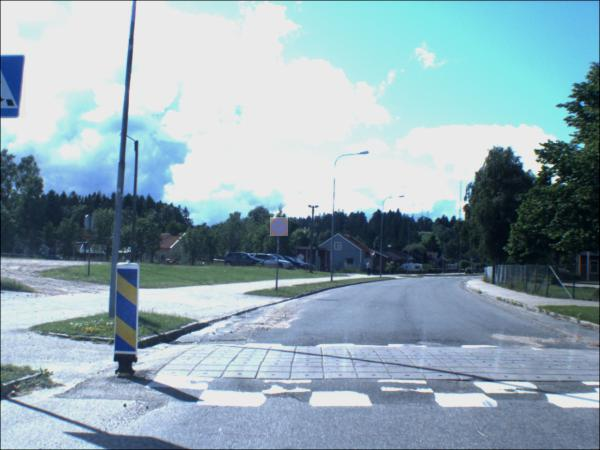NO_STOPPING_NO_STANDING: (270, 218, 289, 238)
PEDESTRIAN_CROSSING: (2, 54, 27, 120)
